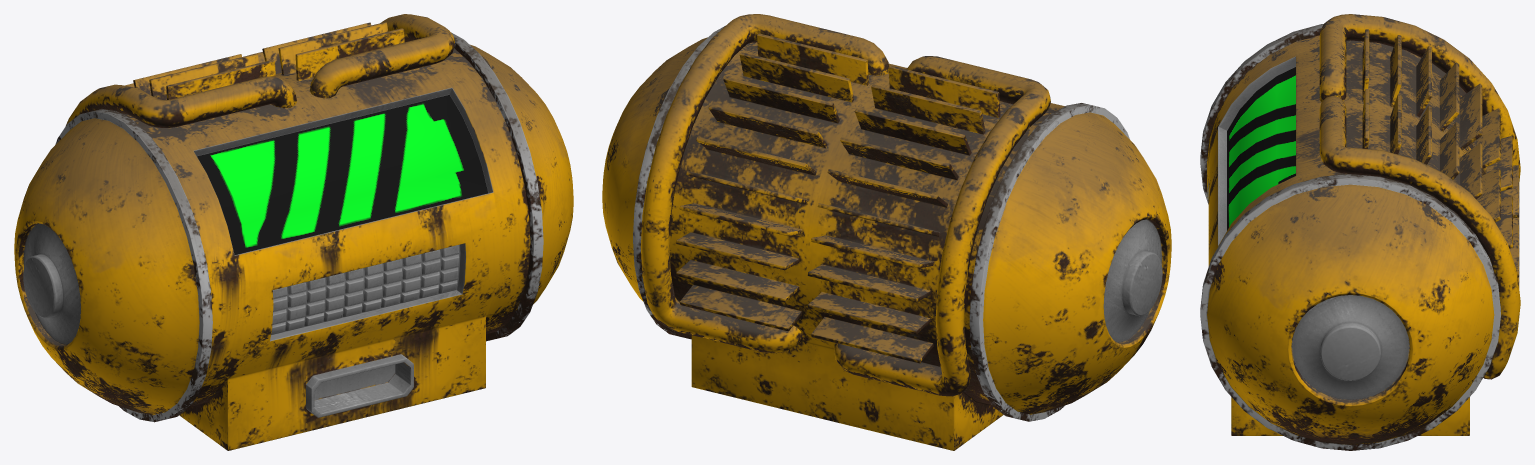
The model's file is battery_pack.fbx.
3 renders of one model, left to right at view 1: azimuth 30°, elevation 25°; view 2: azimuth 150°, elevation 25°; view 3: azimuth 270°, elevation 25°, orthographic. The views are drawn at different scales.
Visible parts, largest first — view 1: BatteryPack_LOD0; view 2: BatteryPack_LOD0; view 3: BatteryPack_LOD0.
Part boxes in pixels (bbox=[...]): BatteryPack_LOD0: bbox=[14, 14, 573, 450]; BatteryPack_LOD0: bbox=[602, 14, 1171, 450]; BatteryPack_LOD0: bbox=[1200, 14, 1520, 450].
Size of what is drawn, in the model's own units: 359 by 209 by 206.
